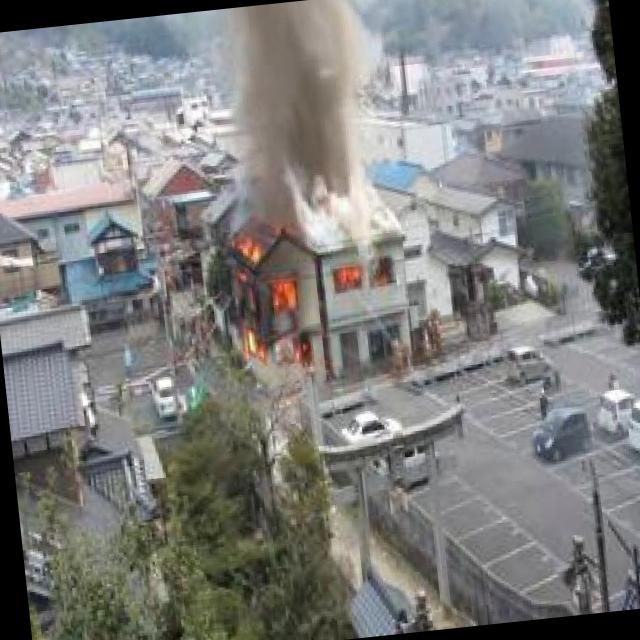Fire: (227, 234, 304, 372), (324, 264, 374, 298)
Smoke: (221, 0, 384, 219)
